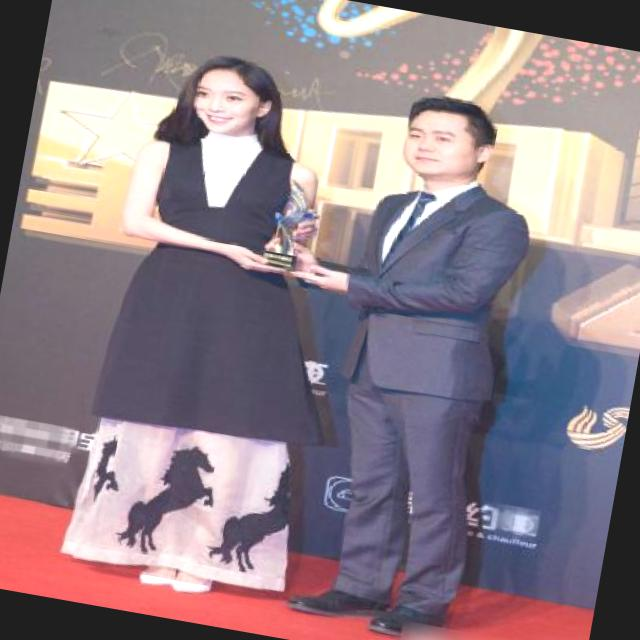Person: (44, 18, 381, 636), (248, 79, 559, 640)
